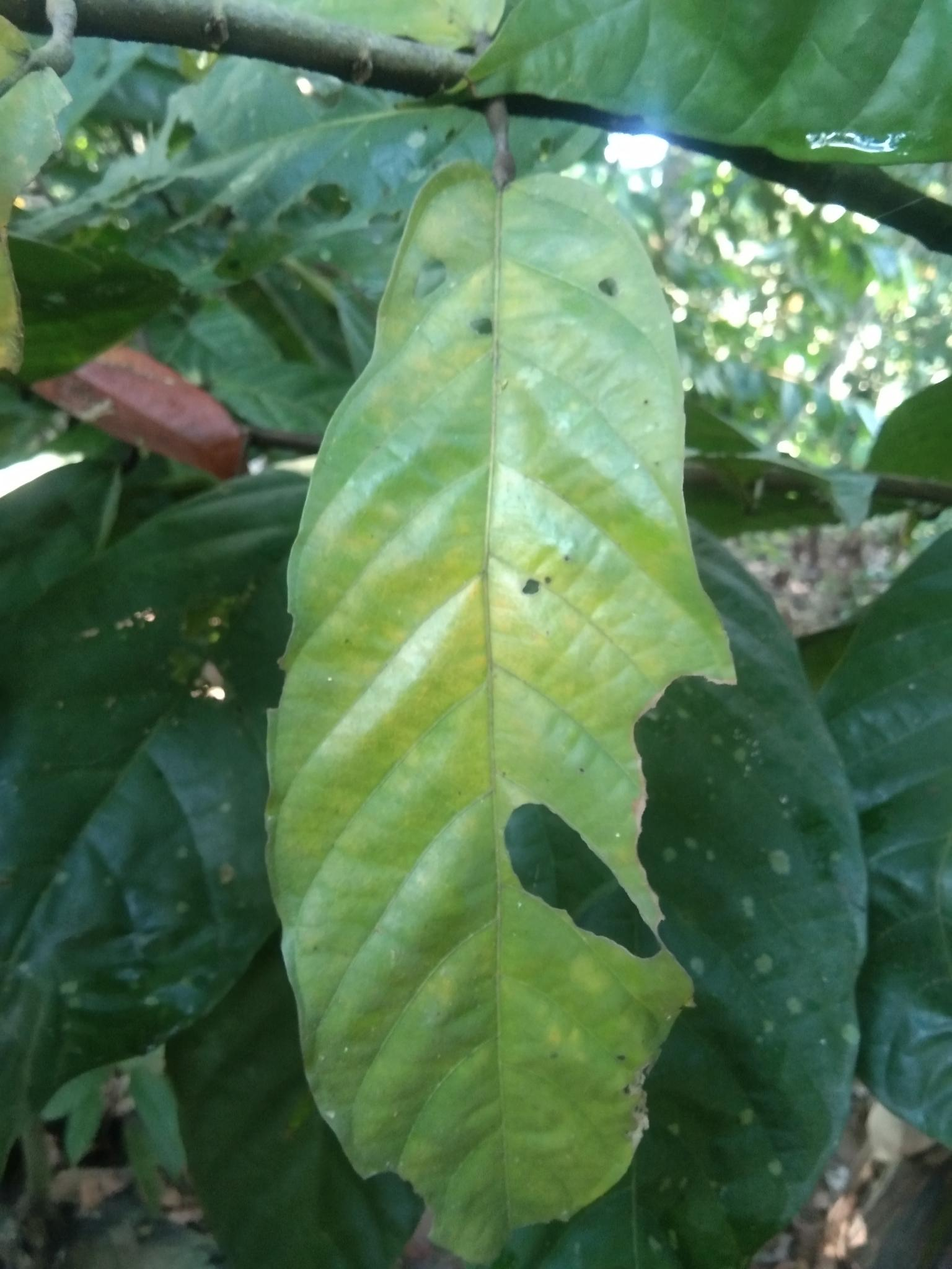Fosforo: (260, 164, 734, 1269)
